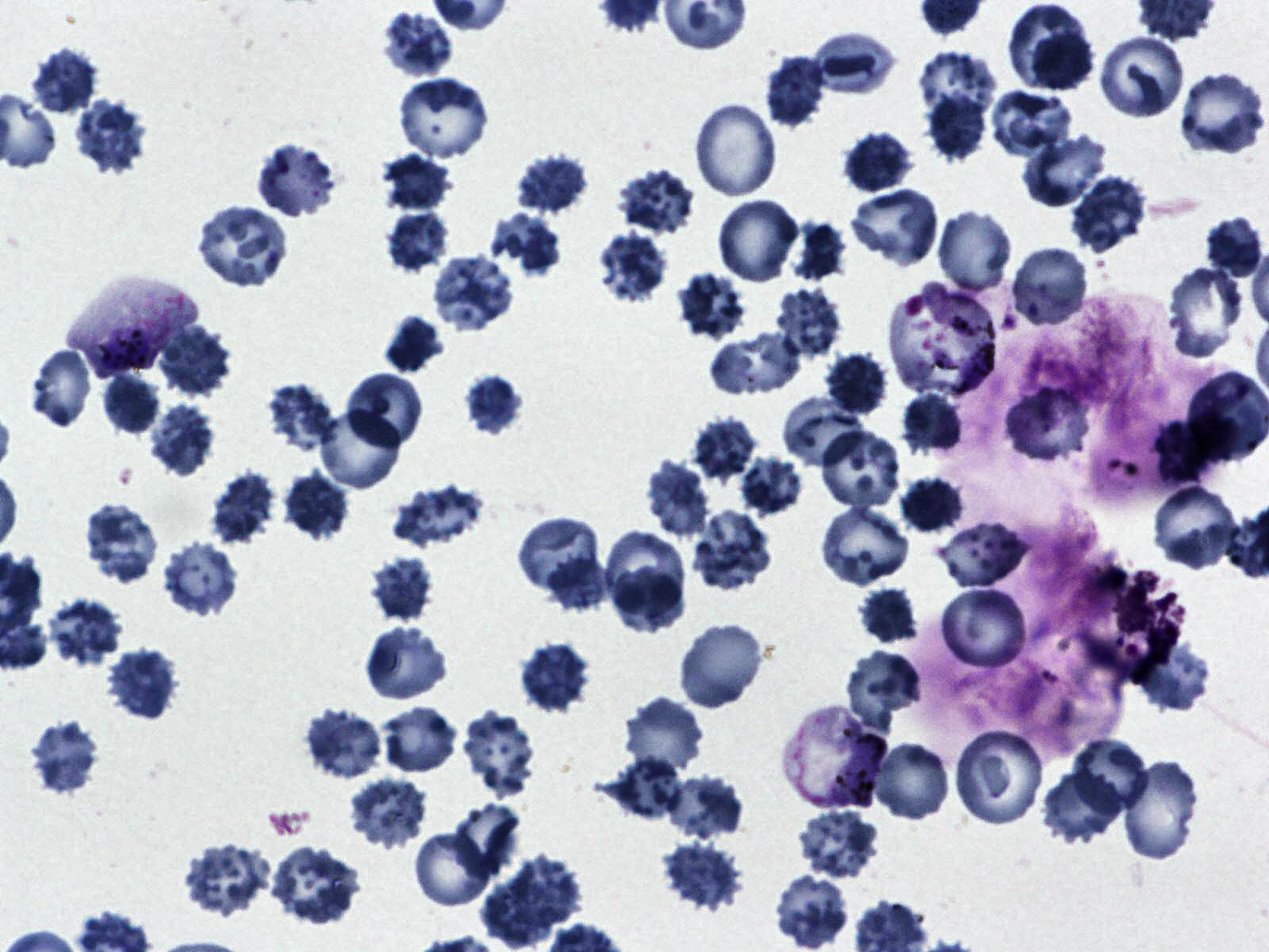Infected: (65, 278, 200, 381), (888, 279, 996, 393), (781, 706, 891, 814)
Uninfected: (953, 727, 1046, 829), (693, 100, 779, 200), (395, 74, 491, 162), (1162, 264, 1247, 363), (715, 194, 804, 288), (194, 202, 289, 290), (816, 503, 913, 589), (678, 620, 766, 711), (938, 585, 1030, 672), (816, 425, 907, 512), (1151, 482, 1240, 570), (849, 186, 942, 268), (1180, 71, 1268, 157), (1125, 761, 1199, 860), (316, 405, 403, 489), (267, 844, 358, 924), (937, 207, 1017, 297), (1023, 132, 1112, 212), (181, 845, 274, 921), (710, 328, 807, 400), (1006, 3, 1085, 90), (1003, 386, 1094, 461), (692, 511, 775, 593), (605, 531, 685, 616), (365, 624, 449, 704), (872, 740, 953, 822), (623, 697, 704, 778), (431, 258, 519, 332), (1098, 39, 1180, 116), (849, 650, 923, 734), (989, 87, 1075, 159), (935, 520, 1030, 585), (1134, 637, 1214, 714), (1045, 767, 1125, 844), (1069, 739, 1150, 814), (774, 873, 857, 946), (41, 593, 124, 666), (345, 775, 429, 847), (780, 397, 864, 469), (377, 6, 456, 82), (379, 701, 460, 775), (462, 712, 535, 794), (300, 708, 384, 779), (28, 347, 98, 432), (25, 718, 102, 795), (1011, 249, 1090, 324), (396, 485, 486, 550), (344, 374, 421, 449), (799, 806, 879, 878), (519, 517, 597, 590), (249, 148, 332, 216), (808, 33, 899, 95), (1071, 175, 1142, 254), (481, 879, 559, 950), (153, 320, 228, 393), (414, 833, 489, 906), (663, 843, 744, 910), (519, 642, 592, 716), (508, 856, 578, 933), (674, 271, 753, 339), (454, 804, 522, 882), (617, 167, 696, 234), (86, 501, 153, 580), (105, 650, 177, 723), (646, 457, 710, 539), (28, 46, 100, 118), (594, 230, 667, 301), (763, 54, 827, 134), (381, 205, 455, 274), (612, 566, 688, 633), (918, 51, 996, 116), (166, 543, 237, 614), (267, 382, 339, 452), (776, 285, 844, 359), (75, 98, 142, 171), (210, 470, 276, 544), (282, 471, 350, 542), (362, 557, 434, 624), (493, 210, 561, 278), (608, 758, 682, 820), (823, 348, 887, 418), (664, 779, 742, 836), (845, 128, 913, 193), (378, 152, 454, 210), (148, 410, 219, 472), (519, 149, 587, 213), (1030, 29, 1098, 92), (897, 476, 965, 537), (740, 455, 803, 519), (696, 416, 757, 482), (102, 372, 163, 437), (902, 392, 965, 454), (928, 94, 987, 160), (547, 555, 612, 612), (1206, 214, 1263, 278), (790, 221, 848, 283), (858, 584, 918, 643), (467, 374, 523, 437)
